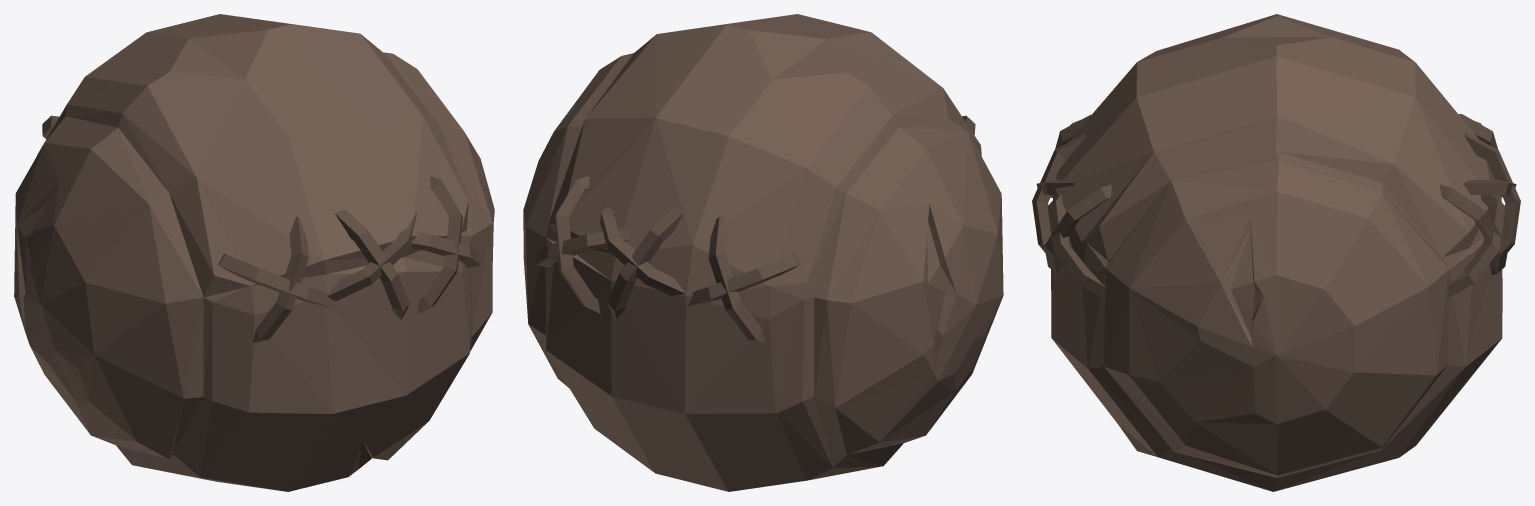
File: Soccer_Ball_001.fbx
3 renders of one model, left to right at view 1: azimuth 30°, elevation 25°; view 2: azimuth 150°, elevation 25°; view 3: azimuth 270°, elevation 25°, orthographic. The views are drawn at different scales.
Parts seen in each view (by area): view 1: Soccer_Ball_001; view 2: Soccer_Ball_001; view 3: Soccer_Ball_001.
Part boxes in pixels (left/top/right/bottom): Soccer_Ball_001: left=14, top=14, right=494, bottom=491; Soccer_Ball_001: left=523, top=14, right=1003, bottom=491; Soccer_Ball_001: left=1032, top=14, right=1520, bottom=491.
Bounding box in the file's own units: 30.68 × 30.22 × 31.1.
